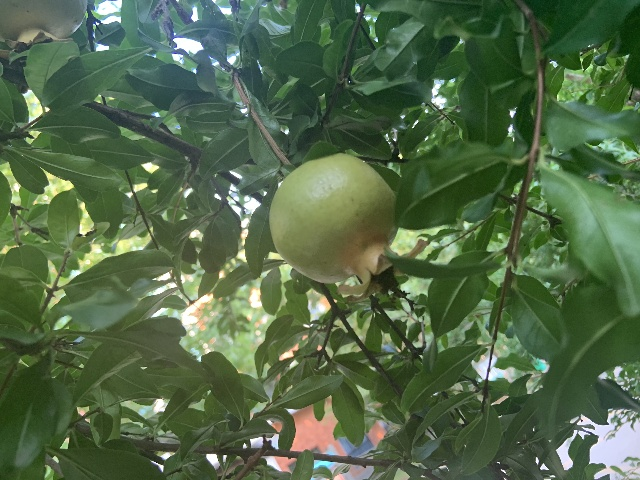mid-growth: (269, 153, 429, 303)
